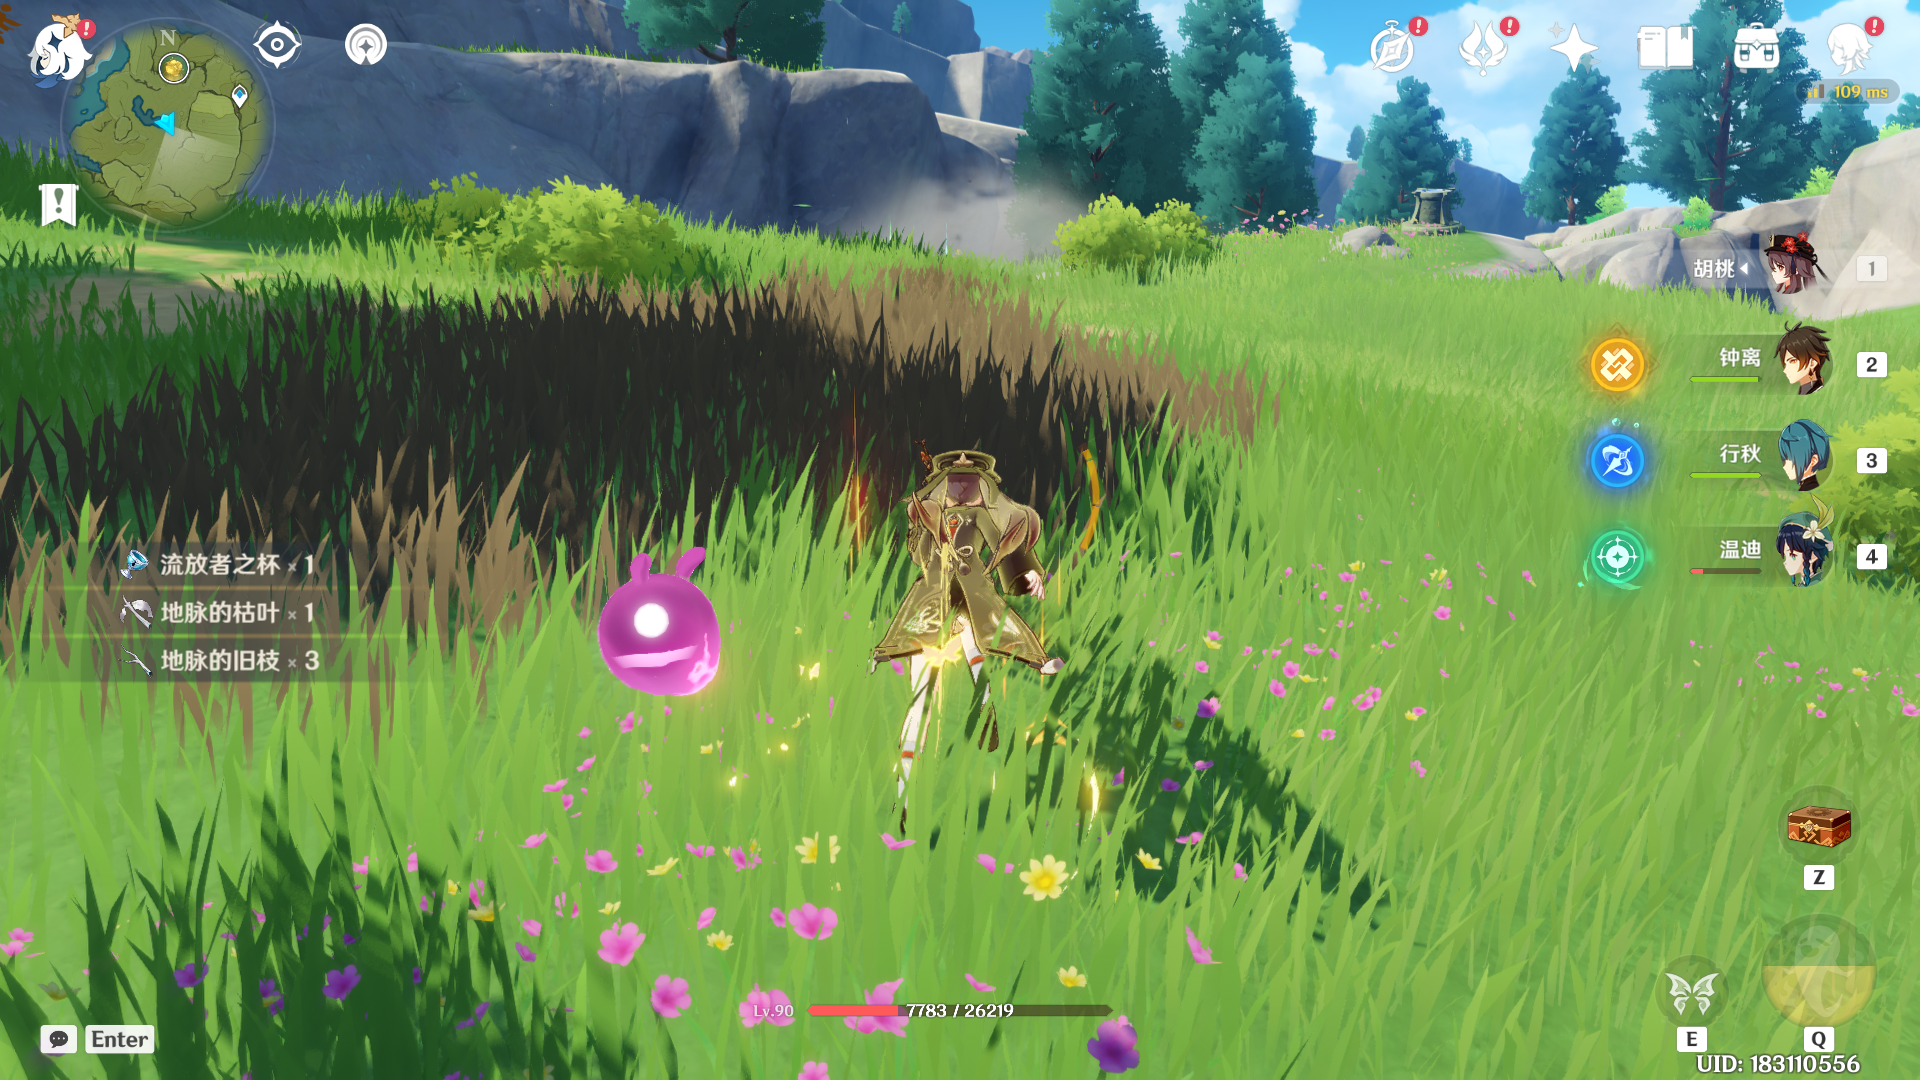character: (814, 446, 1112, 870)
